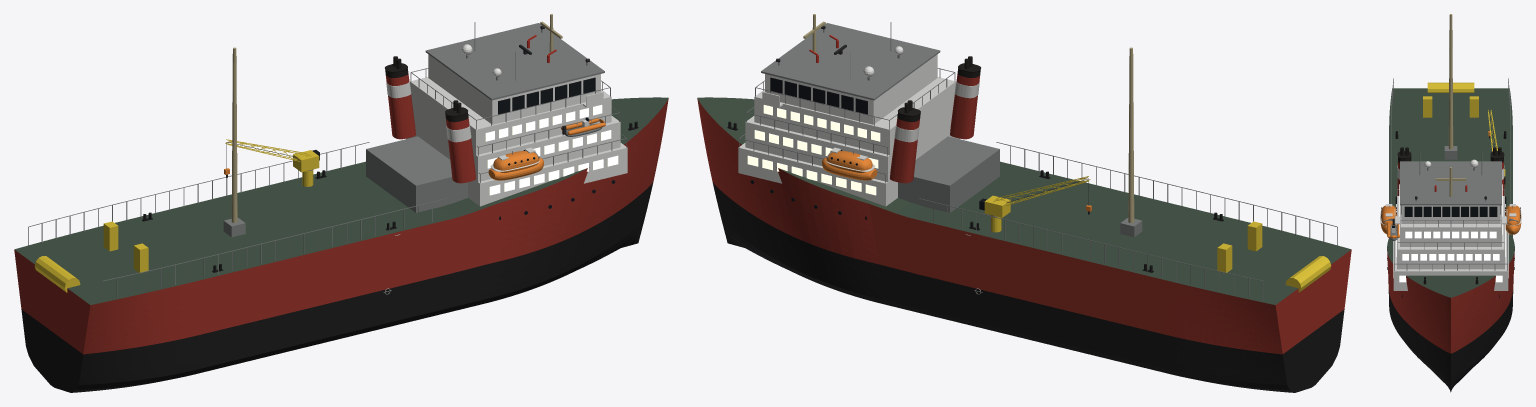
The model's file is ahts70.glb.
The picture shows the model from 3 angles, left to right: view 1: azimuth 30°, elevation 25°; view 2: azimuth 150°, elevation 25°; view 3: azimuth 270°, elevation 25°; orthographic projection. The views are drawn at different scales.
Parts seen in each view (by area): view 1: ahts70; view 2: ahts70; view 3: ahts70.
Part boxes in pixels (bbox=[...]): ahts70: bbox=[14, 14, 668, 392]; ahts70: bbox=[697, 14, 1351, 392]; ahts70: bbox=[1380, 14, 1521, 392].
Size of the model in its own units: 71.3 by 32.3 by 18.33.
